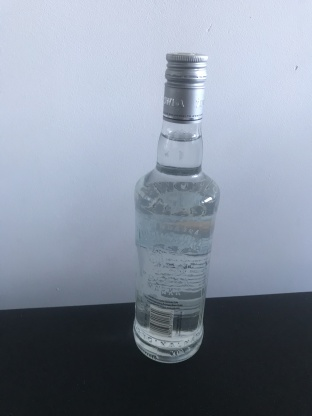nakretka: (160, 48, 209, 126)
